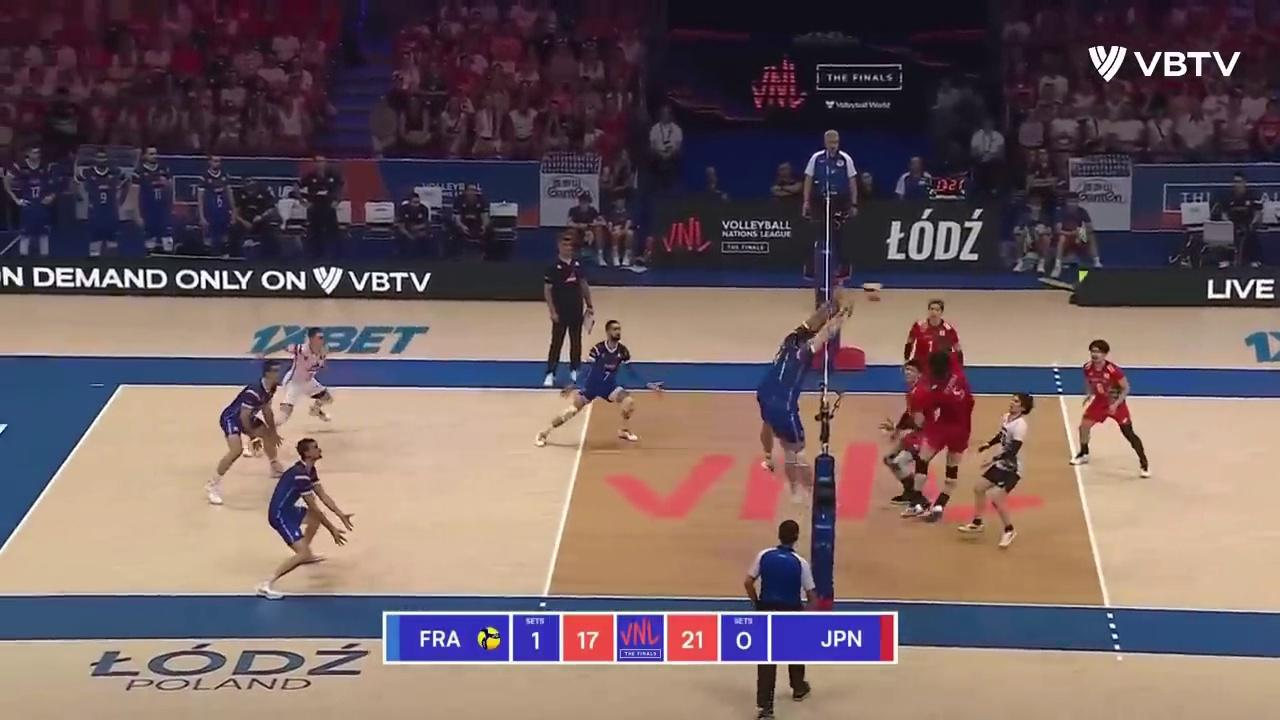ball: (863, 283, 884, 304)
